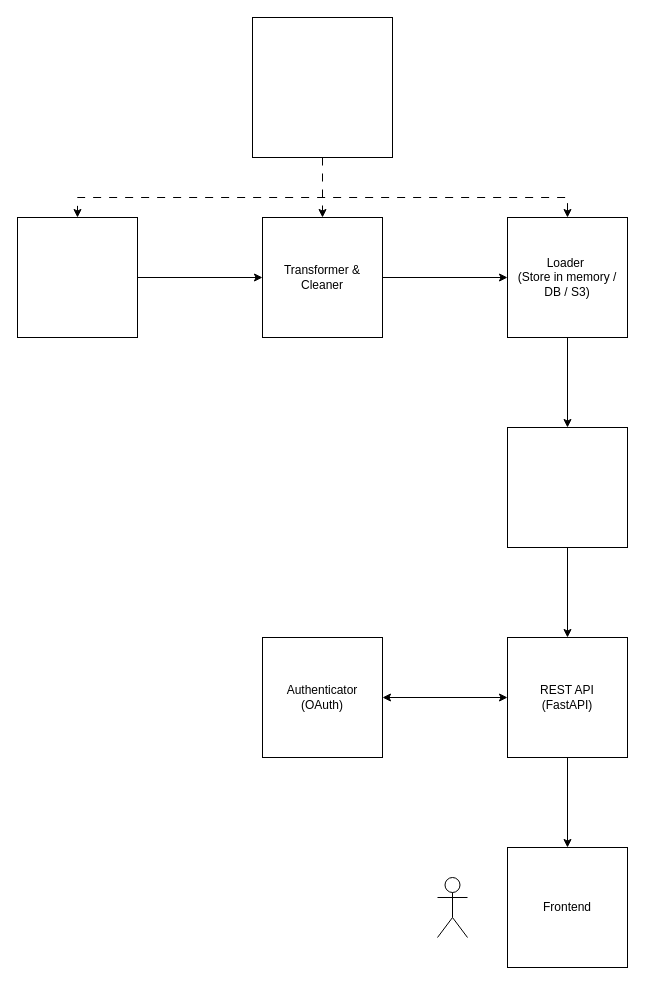
Some shapes in this 645 by 985 pixel diagram are drawn without their labels. The box of each missing label's shape, as (x1, y1, x2, y2) in pixels:
Book Recommendation Engine: (506, 426, 628, 548)
Orchestrator (Databricks / Airflow): (252, 16, 392, 158)
Raw Data Downloader (Kaggle / Sharepoint): (16, 216, 138, 338)
